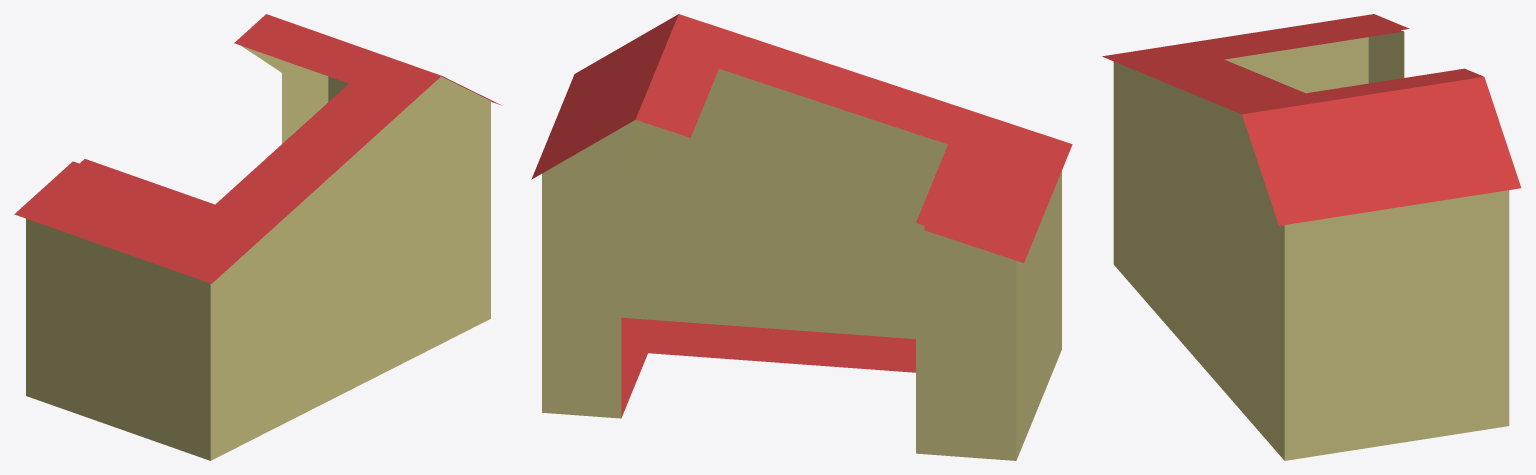
3 renders of one model, left to right at view 1: azimuth 30°, elevation 25°; view 2: azimuth 150°, elevation 25°; view 3: azimuth 270°, elevation 25°, orthographic. The views are drawn at different scales.
Bounding box in the file's own units: 15.29 × 11.02 × 8.95.
